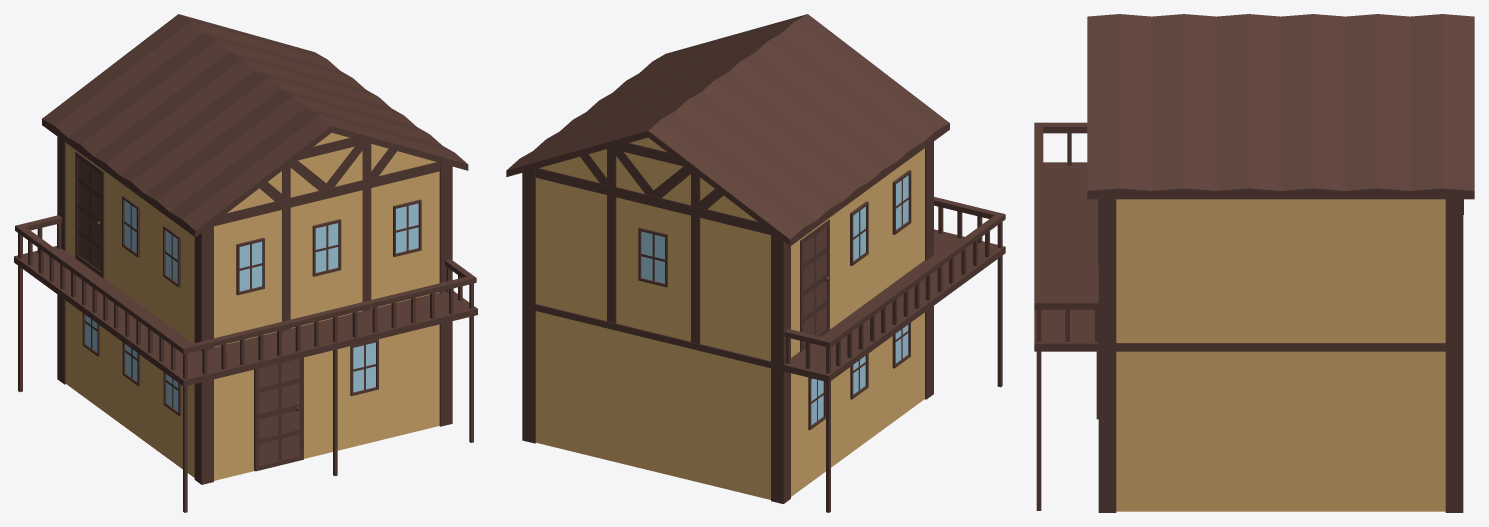
File: PorchHouse.fbx
3 renders of one model, left to right at view 1: azimuth 30°, elevation 25°; view 2: azimuth 150°, elevation 25°; view 3: azimuth 270°, elevation 25°, orthographic. The views are drawn at different scales.
Visible parts, largest first — view 1: Roof; view 2: Roof; view 3: Roof.
Boxes of the visible parts, <box> form: Roof: <box>14,14,477,512</box>; Roof: <box>506,14,1005,512</box>; Roof: <box>1034,14,1474,512</box>.
Size of the model in its own units: 836 by 873 by 827.
